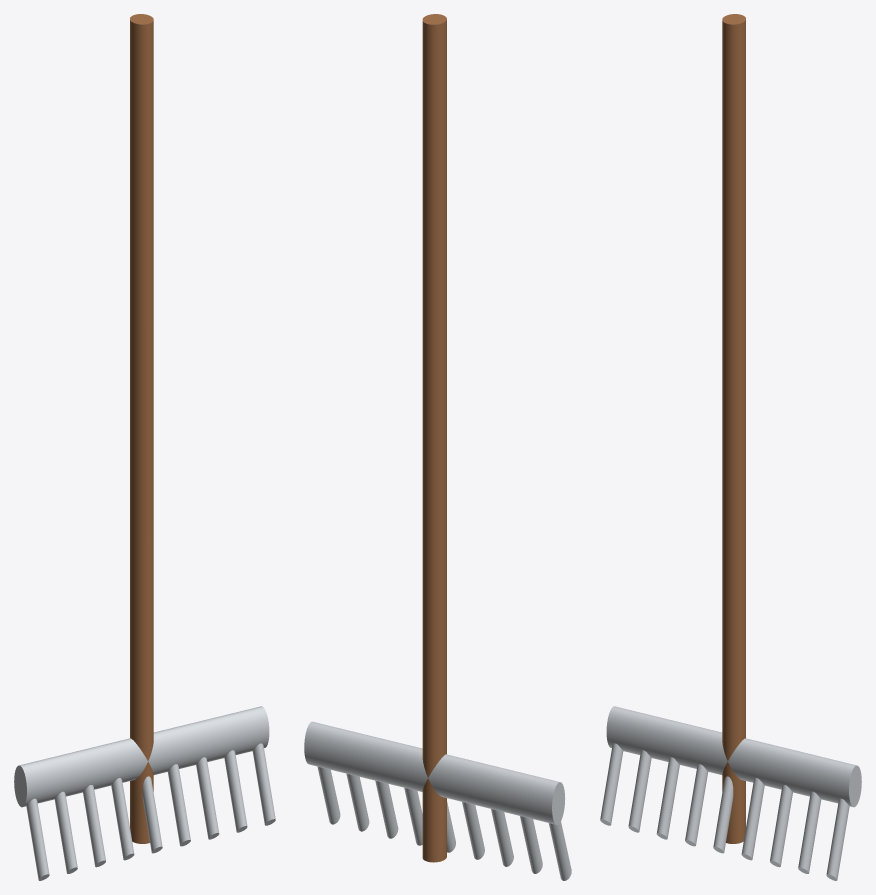
The model's file is wp-rateau.glb.
3 renders of one model, left to right at view 1: azimuth 30°, elevation 25°; view 2: azimuth 150°, elevation 25°; view 3: azimuth 330°, elevation 25°, orthographic. The views are drawn at different scales.
Visible parts, largest first — view 1: wp-rateau; view 2: wp-rateau; view 3: wp-rateau.
Boxes of the visible parts, x1=… form: wp-rateau: x1=14, y1=14, x2=275, y2=880; wp-rateau: x1=304, y1=14, x2=571, y2=880; wp-rateau: x1=600, y1=14, x2=861, y2=880.
Size of the model in its own units: 0.4 by 1.3 by 0.07.
